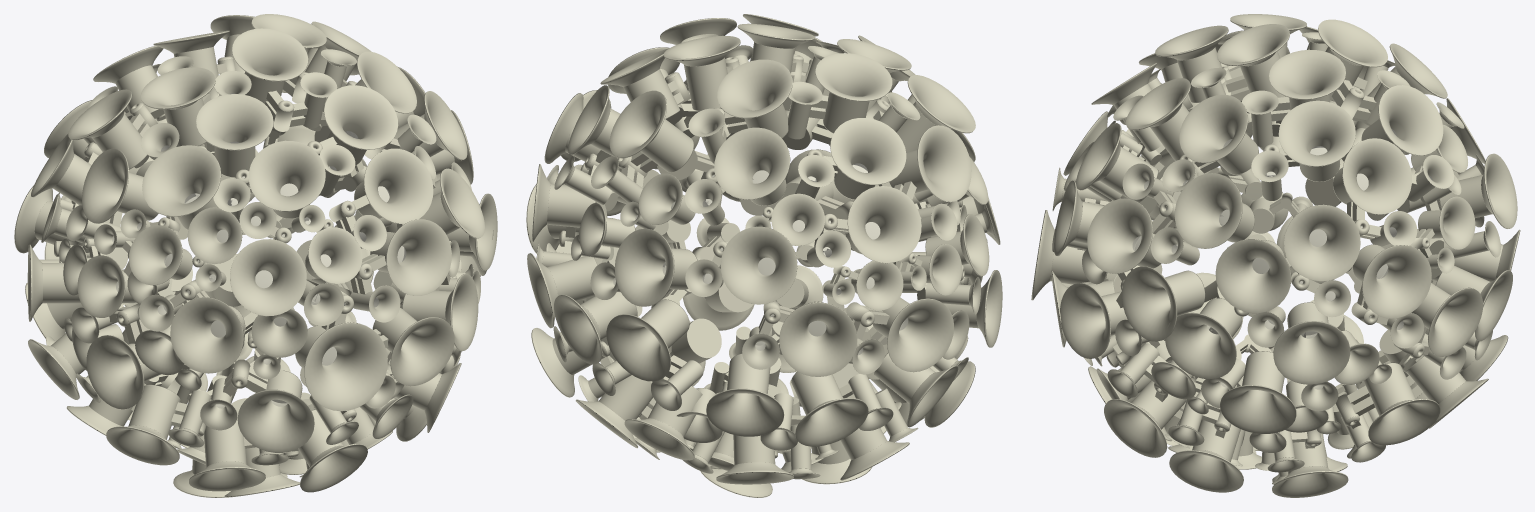
The model's file is Martion.glb.
3 renders of one model, left to right at view 1: azimuth 30°, elevation 25°; view 2: azimuth 150°, elevation 25°; view 3: azimuth 270°, elevation 25°, orthographic.
Parts seen in each view (by area): view 1: O_ORGON_N.011, O_ORGON_N.017, O_ORGON_N.018, O_ORGON_N.019, O_ORGON_N.010, O_ORGON_N.025, O_ORGON_N.007, O_ORGON_N.004, O_ORGON_N.002, O_ORGON_N.020, O_ORGON_N.061, O_ORGON_N.015 (+47 smaller); view 2: O_ORGON_N.044, O_ORGON_N.042, O_ORGON_N.037, O_ORGON_N.041, O_ORGON_N.052, O_ORGON_N.045, O_ORGON_N.043, O_ORGON_N.040, O_ORGON_N.038, O_ORGON_N.039, O_ORGON_N.048, O_ORGON_N.003 (+47 smaller); view 3: O_ORGON_N.036, O_ORGON_N.032, O_ORGON_N.027, O_ORGON_N.035, O_ORGON_N.023, O_ORGON_N.028, O_ORGON_N.031, O_ORGON_N.024, O_ORGON_N.056, O_ORGON_N.033, O_ORGON_N.030, O_ORGON_N.029 (+44 smaller).
Part boxes in pixels (x1,y1,x2,y2): O_ORGON_N.011: [295, 280, 387, 411]; O_ORGON_N.017: [200, 359, 314, 452]; O_ORGON_N.018: [350, 219, 451, 322]; O_ORGON_N.019: [329, 148, 433, 251]; O_ORGON_N.010: [139, 280, 245, 373]; O_ORGON_N.025: [232, 28, 337, 131]; O_ORGON_N.007: [230, 202, 306, 316]; O_ORGON_N.004: [213, 140, 325, 222]; O_ORGON_N.002: [141, 123, 221, 229]; O_ORGON_N.020: [307, 85, 398, 196]; O_ORGON_N.061: [106, 384, 211, 465]; O_ORGON_N.015: [71, 304, 160, 409]; O_ORGON_N.044: [742, 301, 857, 376]; O_ORGON_N.042: [807, 186, 921, 267]; O_ORGON_N.037: [591, 90, 693, 203]; O_ORGON_N.041: [685, 127, 790, 225]; O_ORGON_N.052: [606, 299, 703, 410]; O_ORGON_N.045: [685, 226, 797, 304]; O_ORGON_N.043: [846, 297, 953, 374]; O_ORGON_N.040: [795, 118, 906, 199]; O_ORGON_N.038: [688, 59, 792, 163]; O_ORGON_N.039: [786, 53, 892, 139]; O_ORGON_N.048: [590, 228, 697, 306]; O_ORGON_N.003: [889, 125, 971, 240]; O_ORGON_N.036: [1333, 138, 1417, 246]; O_ORGON_N.032: [1284, 204, 1360, 316]; O_ORGON_N.027: [1251, 100, 1355, 200]; O_ORGON_N.035: [1351, 244, 1431, 348]; O_ORGON_N.023: [1087, 163, 1176, 273]; O_ORGON_N.028: [1151, 173, 1254, 265]; O_ORGON_N.031: [1215, 239, 1291, 347]; O_ORGON_N.024: [1162, 94, 1258, 192]; O_ORGON_N.056: [1335, 362, 1440, 462]; O_ORGON_N.033: [1273, 302, 1350, 411]; O_ORGON_N.030: [1165, 298, 1245, 408]; O_ORGON_N.029: [1115, 266, 1205, 355].
Size of the model in its own units: 2.56 by 2.62 by 2.6.
